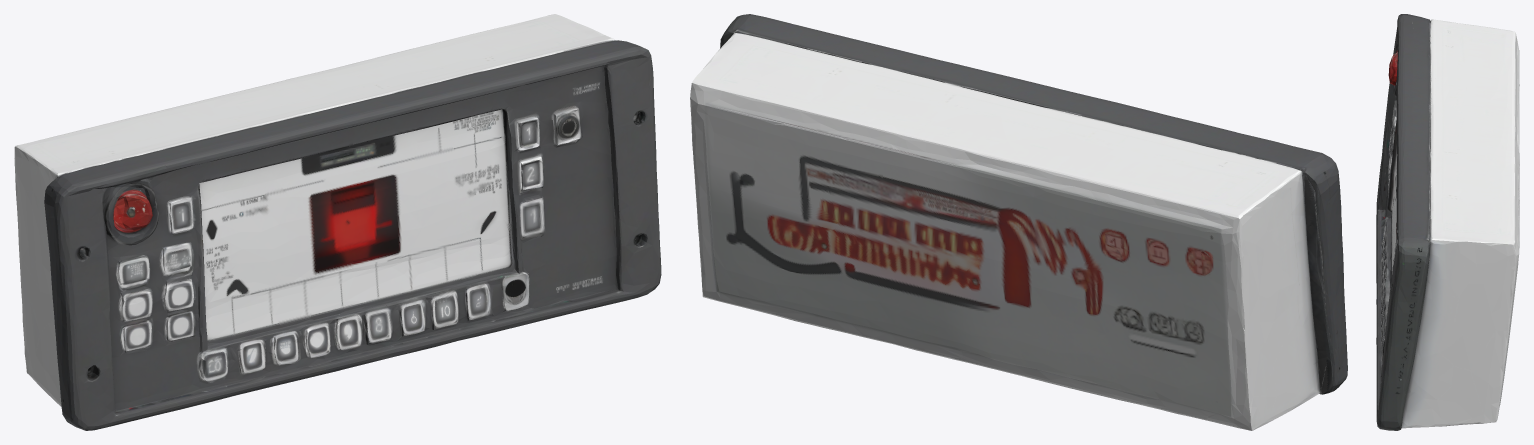
File: Emergency_Communicati_0423123205_texture.fbx
3 renders of one model, left to right at view 1: azimuth 30°, elevation 25°; view 2: azimuth 150°, elevation 25°; view 3: azimuth 270°, elevation 25°, orthographic. The views are drawn at different scales.
Parts seen in each view (by area): view 1: temp; view 2: temp; view 3: temp.
Boxes of the visible parts, x1,y1,x2,y2 form: temp: (14,14,661,430); temp: (690,14,1347,430); temp: (1376,14,1519,430).
Bounding box in the file's own units: 200 × 76.58 × 51.2.
1 material, 1 textured.
